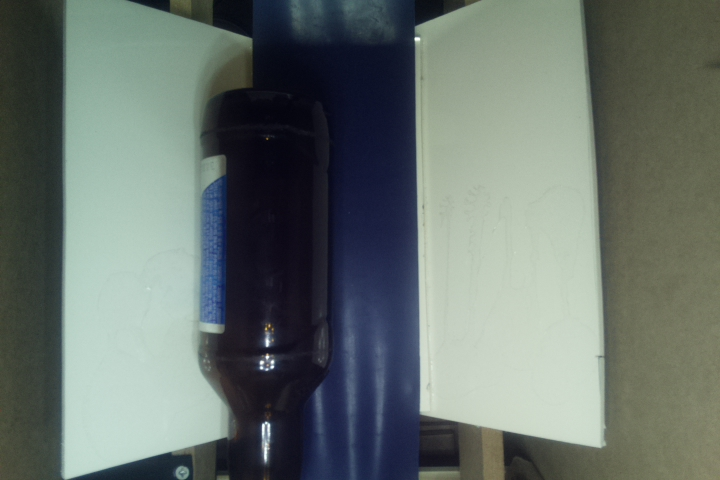makju: (196, 88, 332, 480)
